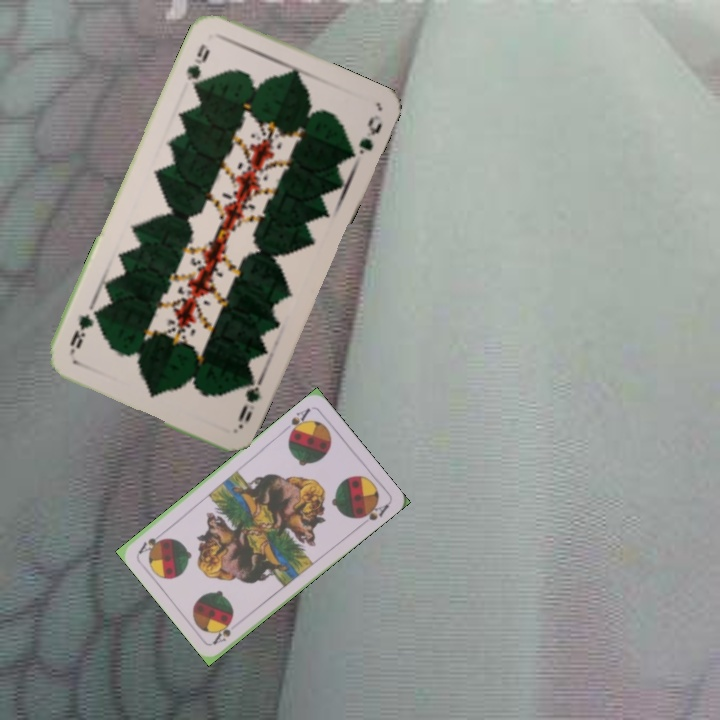G9: (234, 371, 266, 432), (182, 39, 213, 93)
SA: (285, 404, 313, 439), (209, 616, 235, 647)
